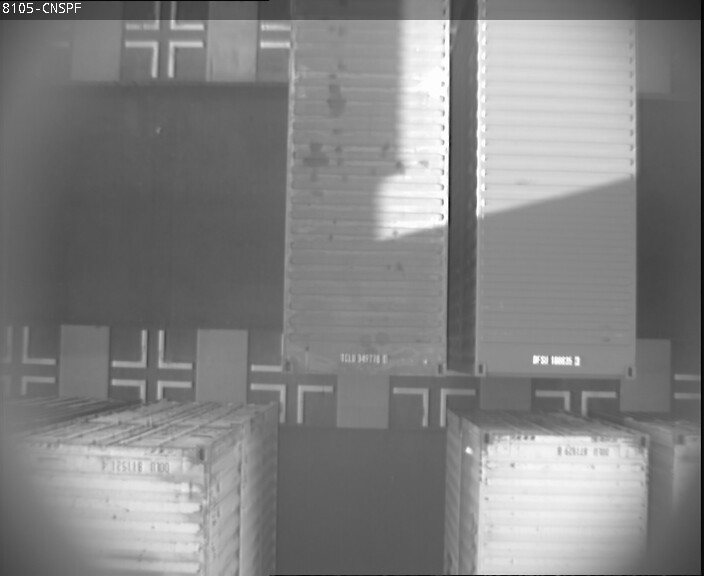groundmarker_1: (250, 379, 333, 422), (108, 327, 191, 369), (393, 384, 476, 426), (121, 37, 204, 79), (13, 324, 54, 395), (123, 1, 206, 33), (533, 384, 618, 415), (109, 378, 186, 403)
